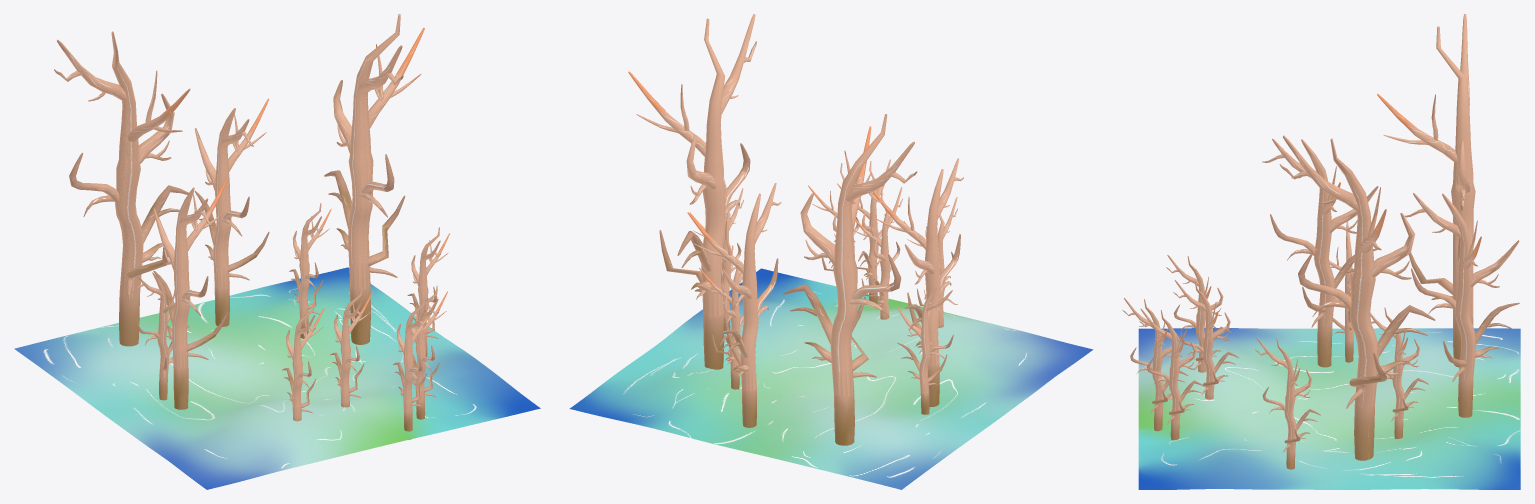
File: BeaverScene1Trees.glb
3 renders of one model, left to right at view 1: azimuth 30°, elevation 25°; view 2: azimuth 150°, elevation 25°; view 3: azimuth 270°, elevation 25°, orthographic.
Parts seen in each view (by area): view 1: grass, tree2.005, tree2.004, tree, tree.002, tree2.002, tree2.003, tree2.007, tree2, tree.001, tree2.006, tree2.001; view 2: grass, tree2.005, tree2.004, tree.002, tree, tree.001, tree2.007, tree2.003, tree2.002, tree2.001, tree2; view 3: grass, tree2.004, tree2.005, tree.002, tree, tree2.001, tree2.006, tree2.007, tree2.002, tree2.003, tree2, tree.001.
Part boxes in pixels (x1,y1,x2,y2): grass: [14, 267, 540, 489]; tree2.005: [54, 31, 190, 346]; tree2.004: [324, 14, 424, 344]; tree: [153, 178, 227, 409]; tree.002: [194, 98, 269, 326]; tree2.002: [393, 296, 435, 439]; tree2.003: [289, 203, 331, 338]; tree2.007: [330, 286, 372, 407]; tree2: [282, 302, 324, 421]; tree.001: [133, 272, 189, 400]; tree2.006: [411, 285, 447, 419]; tree2.001: [407, 227, 449, 360]; grass: [569, 268, 1093, 489]; tree2.005: [783, 114, 917, 445]; tree2.004: [628, 14, 756, 369]; tree.002: [687, 183, 781, 427]; tree: [872, 158, 963, 406]; tree.001: [897, 286, 957, 414]; tree2.007: [853, 187, 902, 319]; tree2.003: [699, 245, 743, 389]; tree2.002: [837, 159, 890, 303]; tree2.001: [689, 188, 743, 333]; tree2: [903, 197, 957, 327]; grass: [1138, 328, 1520, 489]; tree2.004: [1279, 135, 1435, 460]; tree2.005: [1377, 14, 1475, 367]; tree.002: [1404, 193, 1519, 417]; tree: [1262, 138, 1378, 367]; tree2.001: [1255, 337, 1320, 469]; tree2.006: [1139, 308, 1205, 440]; tree2.007: [1173, 280, 1238, 399]; tree2.002: [1122, 297, 1188, 431]; tree2.003: [1370, 307, 1428, 438]; tree2: [1166, 255, 1231, 372]; tree.001: [1313, 221, 1353, 362].
Bounding box in the file's own units: 112 × 107 × 114.
Materials: 12 (12 with a texture image).
